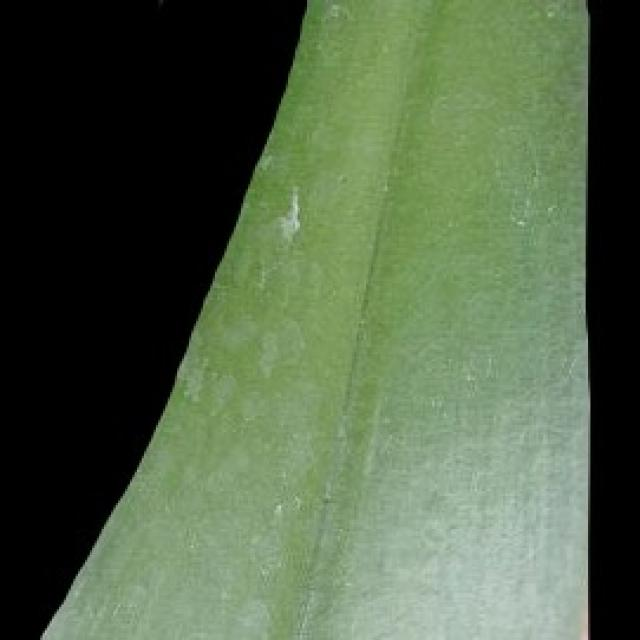mite: (128, 0, 581, 26), (319, 0, 579, 21), (144, 0, 309, 19), (144, 0, 307, 7), (321, 0, 347, 21), (137, 0, 215, 7)
